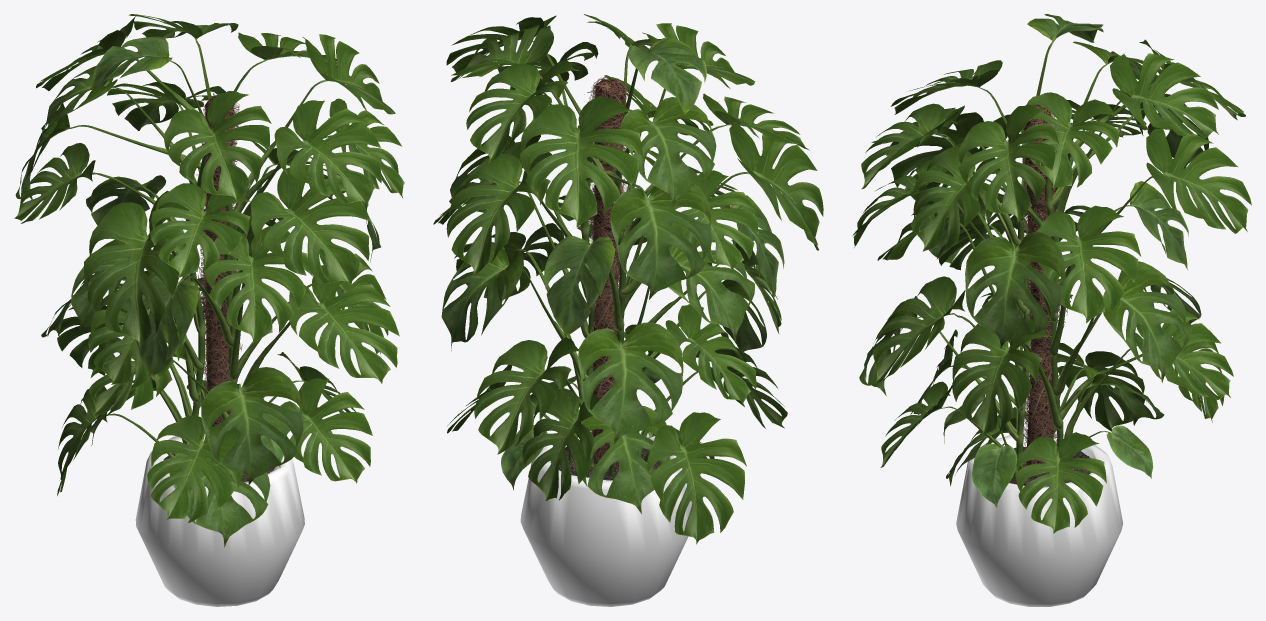
Rendered from monstera.glb.
3 views of the same model, side by side, from view 1: azimuth 30°, elevation 25°; view 2: azimuth 150°, elevation 25°; view 3: azimuth 270°, elevation 25° (orthographic). The views are drawn at different scales.
Visible parts, largest first — view 1: Leaves, Vase, Fiber stick; view 2: Leaves, Vase, Fiber stick; view 3: Leaves, Vase, Fiber stick.
Boxes of the visible parts, x1,y1,x2,y2 form: Leaves: [14, 14, 404, 547]; Vase: [135, 433, 304, 606]; Fiber stick: [196, 93, 242, 435]; Leaves: [433, 14, 823, 544]; Vase: [520, 430, 692, 606]; Fiber stick: [584, 76, 628, 470]; Leaves: [852, 14, 1251, 533]; Vase: [956, 433, 1123, 606]; Fiber stick: [1020, 104, 1067, 466].
Bounding box in the file's own units: 0.8059 × 1.29 × 0.8673.
5 materials, 4 textured.
